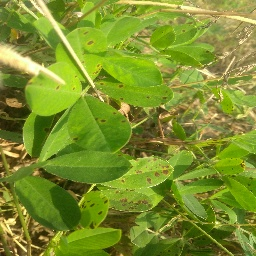GroundNut_Leaf: (66, 96, 135, 154), (15, 176, 80, 230), (56, 25, 100, 83), (103, 50, 170, 87), (128, 158, 175, 190), (69, 227, 122, 251), (181, 193, 210, 222), (178, 177, 221, 194), (212, 156, 246, 177), (150, 23, 177, 49)
